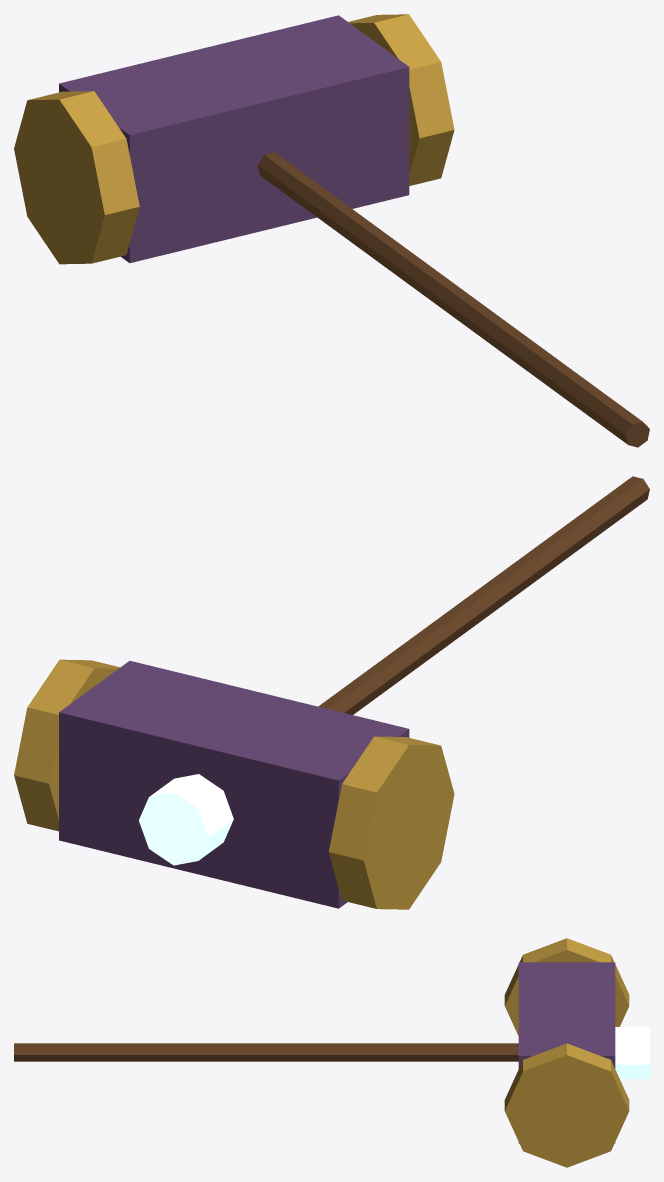
File: Weapon_BossC_Quakehammer.fbx
3 views of the same model, one above another, from view 1: azimuth 30°, elevation 25°; view 2: azimuth 150°, elevation 25°; view 3: azimuth 270°, elevation 25° (orthographic). The views are drawn at different scales.
Visible parts, largest first — view 1: Weapon_BossC_Quakehammer; view 2: Weapon_BossC_Quakehammer; view 3: Weapon_BossC_Quakehammer.
Part boxes in pixels (<box>): Weapon_BossC_Quakehammer: <box>14,14,649,447</box>; Weapon_BossC_Quakehammer: <box>14,476,649,909</box>; Weapon_BossC_Quakehammer: <box>14,938,649,1167</box>.
Bounding box in the file's own units: 20 × 9 × 46.
